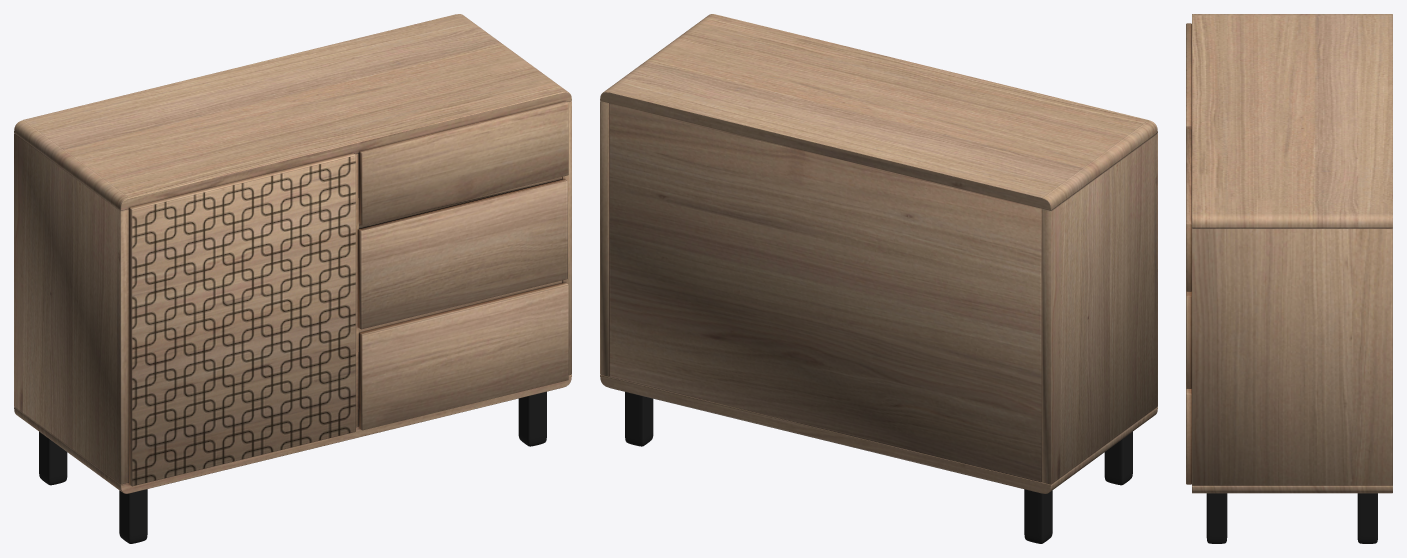
File: hume_compact_cabinet.glb
3 views of the same model, side by side, from view 1: azimuth 30°, elevation 25°; view 2: azimuth 150°, elevation 25°; view 3: azimuth 270°, elevation 25° (orthographic). The views are drawn at different scales.
Visible parts, largest first — view 1: OAK, OAK_PATTERN, WOOD_BLACK; view 2: OAK, WOOD_BLACK; view 3: OAK, WOOD_BLACK.
Boxes of the visible parts, x1,y1,x2,y2 form: OAK: (14, 14, 571, 493); OAK_PATTERN: (132, 155, 355, 485); WOOD_BLACK: (39, 391, 546, 543); OAK: (600, 14, 1157, 493); WOOD_BLACK: (625, 392, 1132, 543); OAK: (1186, 14, 1392, 493); WOOD_BLACK: (1206, 493, 1377, 543).
Size of what is drawn, in the model's own units: 100 by 75.45 by 42.19.
3 materials, 2 textured.
